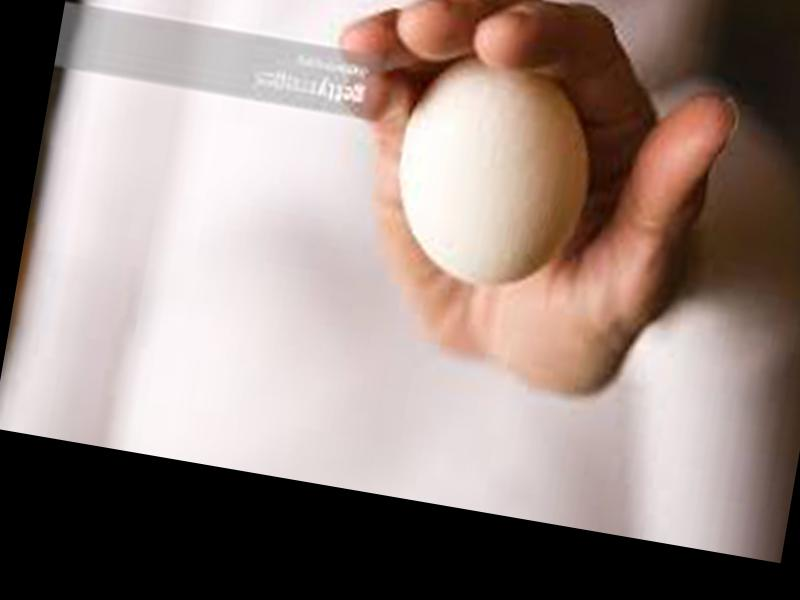Eggs: (382, 48, 608, 297)
